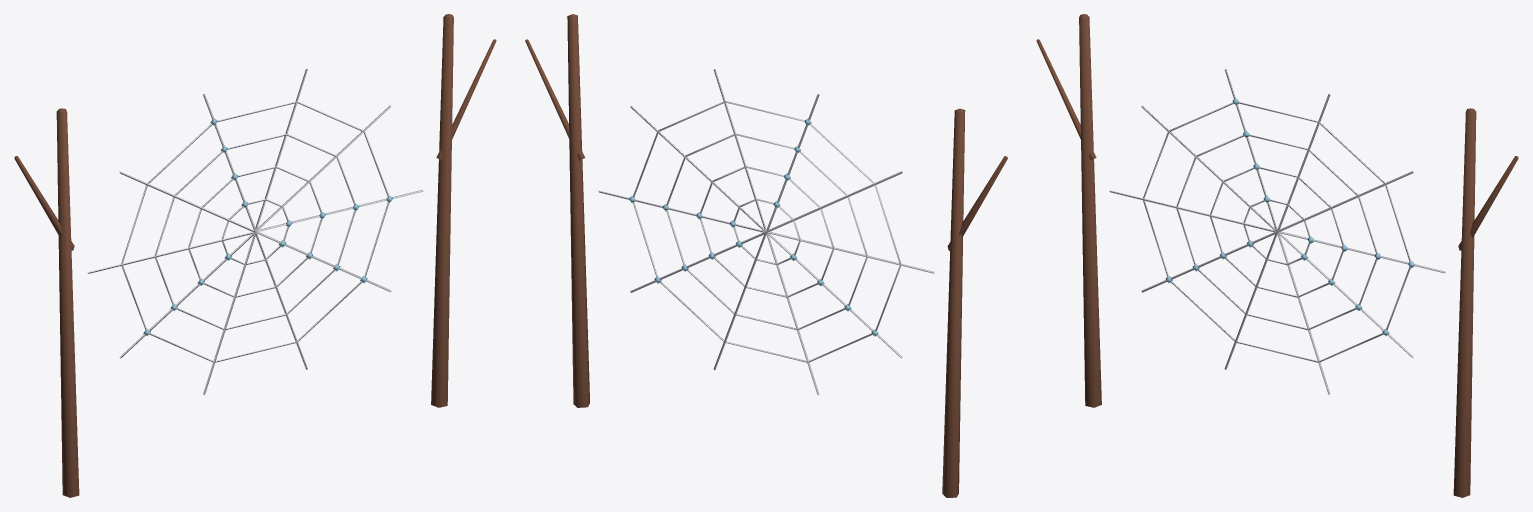
File: ing_spider_silk.gltf
3 renders of one model, left to right at view 1: azimuth 30°, elevation 25°; view 2: azimuth 150°, elevation 25°; view 3: azimuth 330°, elevation 25°, orthographic.
Visible parts, largest first — view 1: ing_spider_silk; view 2: ing_spider_silk; view 3: ing_spider_silk.
Boxes of the visible parts, x1,y1,x2,y2 form: ing_spider_silk: (14,14,496,497); ing_spider_silk: (525,14,1007,497); ing_spider_silk: (1036,14,1518,497).
Size of what is drawn, in the model's own units: 0.504 by 0.3877 by 0.0145.
